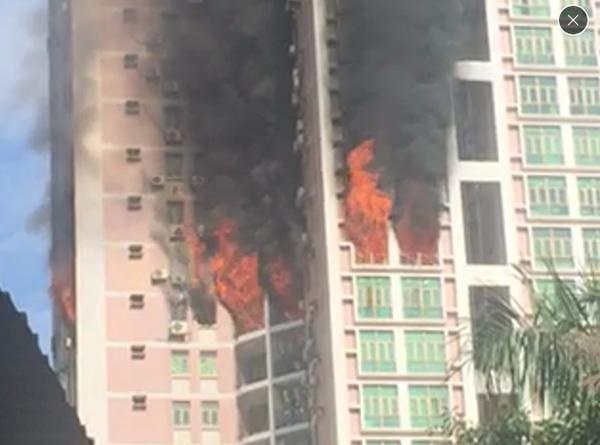fire: (186, 224, 297, 322), (342, 140, 392, 256), (399, 220, 441, 262), (57, 283, 77, 320)
